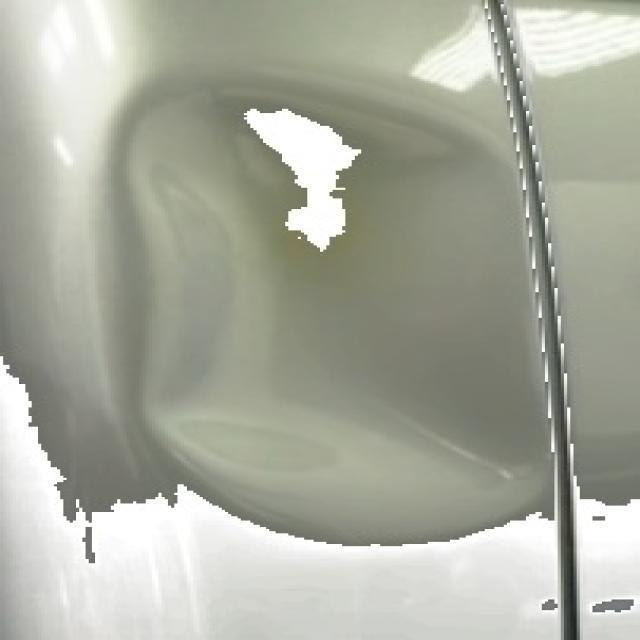dent: (124, 79, 558, 544)
